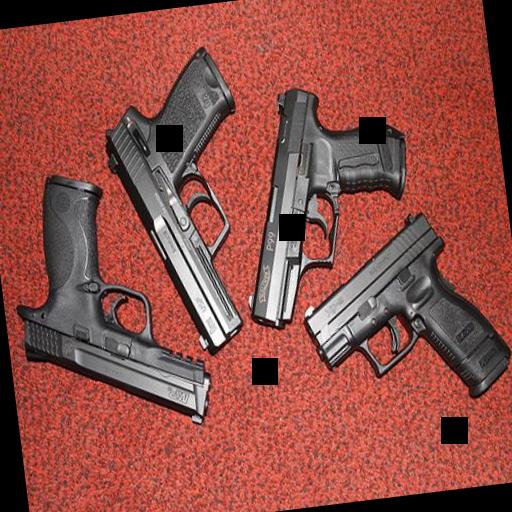Handgun: (0, 156, 214, 448), (92, 46, 261, 366), (216, 76, 426, 328), (290, 202, 510, 418)
